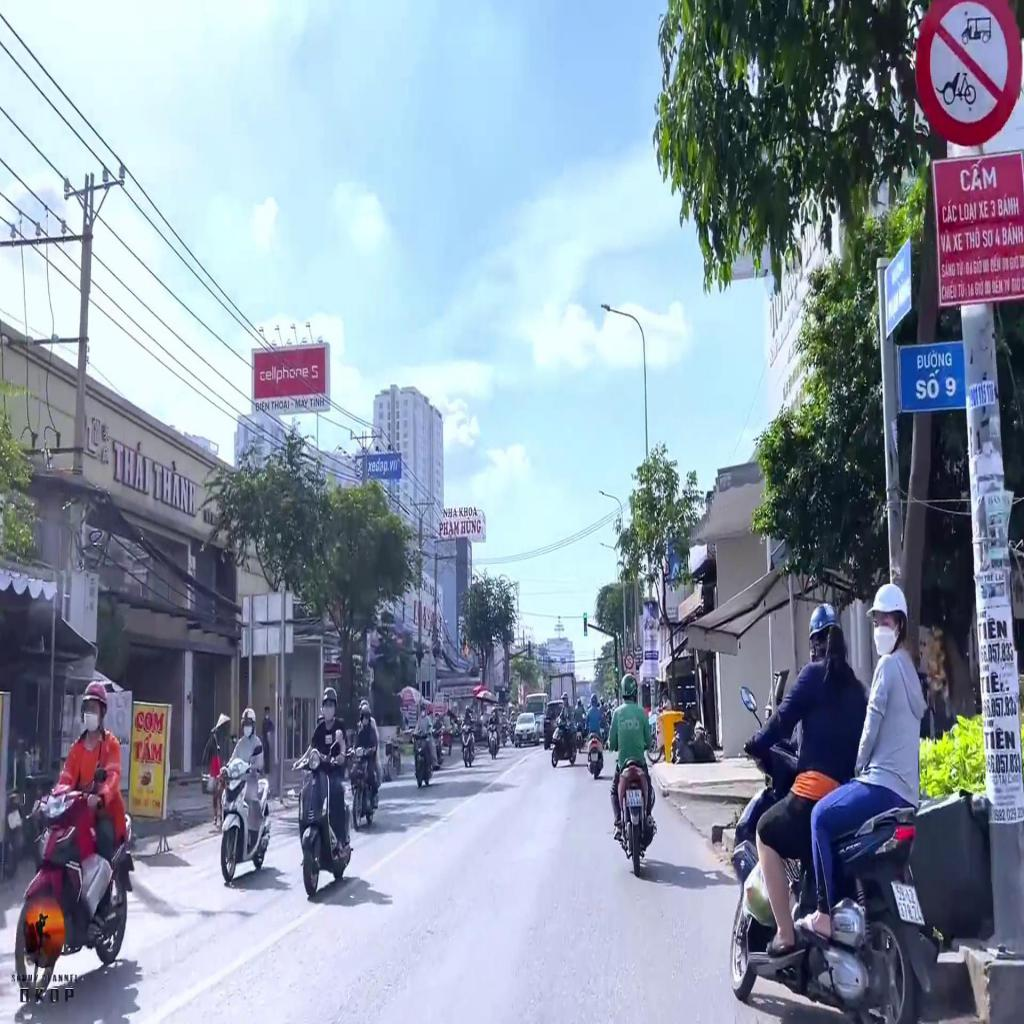cam_cac_loai_xe_3_banh: (625, 654, 634, 670)
